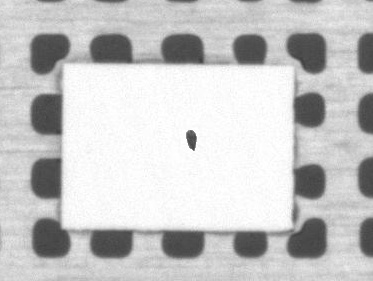DIE_INK: (244, 96, 263, 115)
